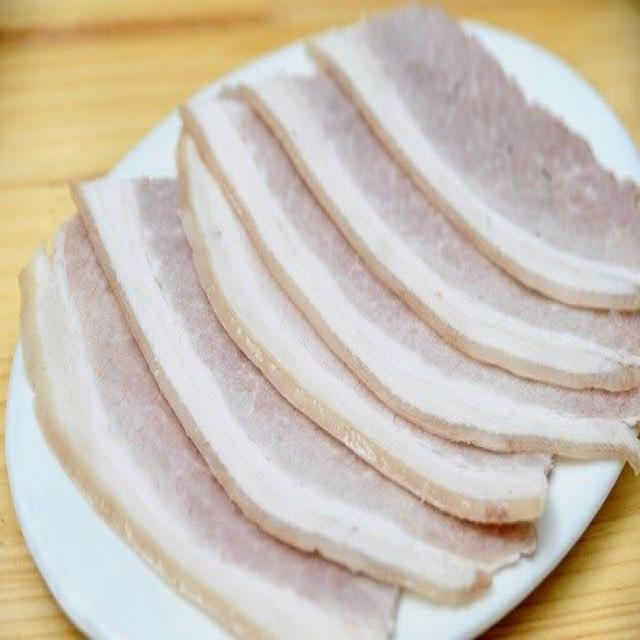thit luoc: (79, 178, 535, 598), (183, 96, 639, 458), (21, 219, 399, 638), (179, 133, 541, 519), (246, 79, 639, 389), (310, 10, 639, 309)
